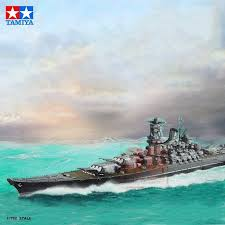tau_muctieu: (11, 128, 225, 191)
